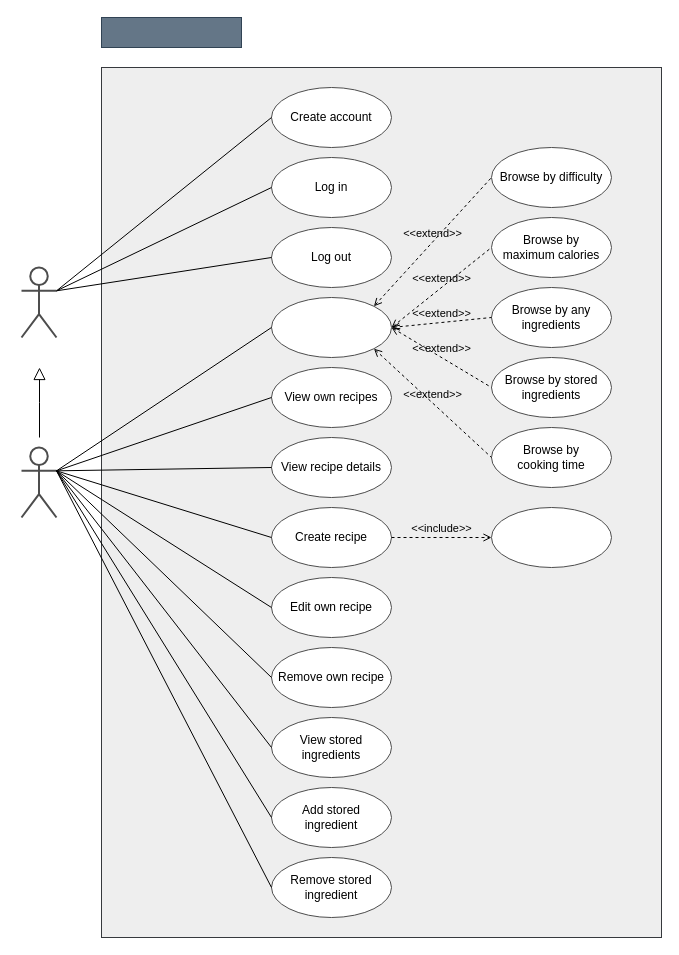
Image size: 679x955. Some labels were removed from this diagram. The shapes that lost their labels are listed below. From the top down, each one's centre as x and y in pixels, then its label:
[171,32]: Use Case Diagram
[38,302]: Account
[331,327]: Browse public recipes
[38,482]: User
[551,537]: Make recipe public/private
